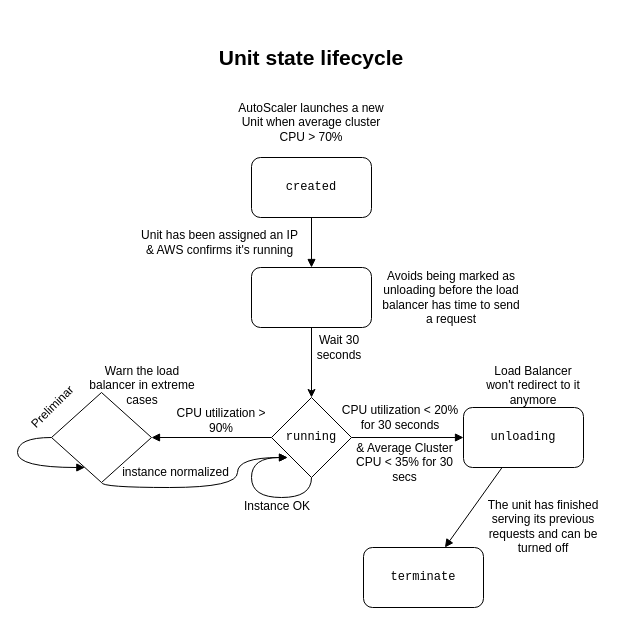
Image size: 621x625. Some labels were removed from this diagram. Each missing label, with the centre of its shape:
overloaded: point 101,437
startup: point 311,297
